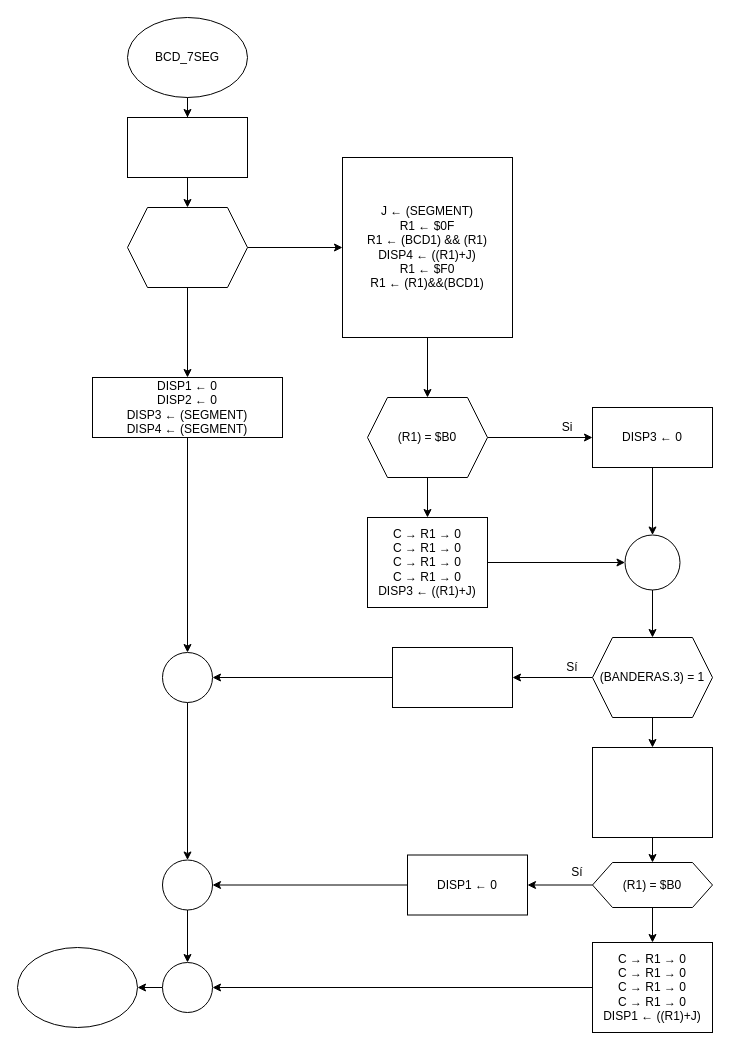
The diagram is 730 pixels wide and 1050 high, and some of its shapes have lost their labels. The box of each missing label's shape, as (x1, y1, x2, y2) in pixels:
(R1) = 0: (126, 206, 248, 288)
DISP1 ← 0 DISP2 ← 0: (392, 646, 512, 708)
R1 ← $0F R1 ← (R1)&&(BCD2) DISP2 ← ((R1)+J) R1 ← $F0 R1 ← (R1)&&(BCD2): (592, 746, 712, 838)
R1 ← (CantPQ): (126, 116, 248, 178)
RETORNAR: (16, 946, 138, 1028)
